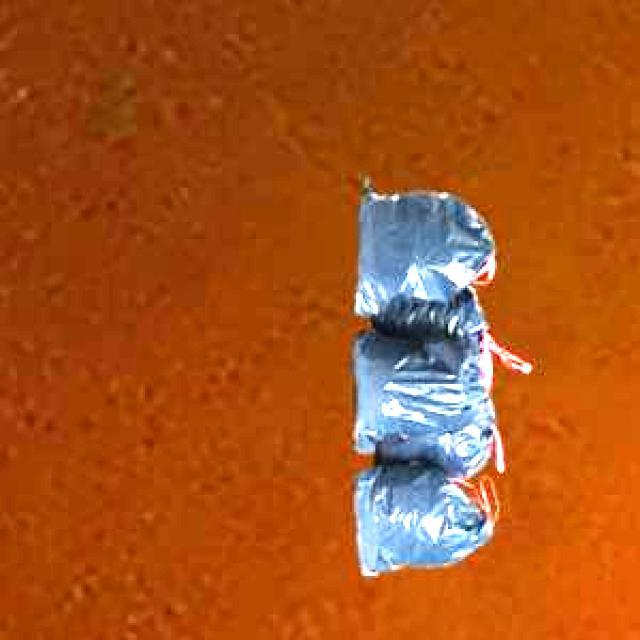Garbage_Bag: (348, 176, 501, 573)
